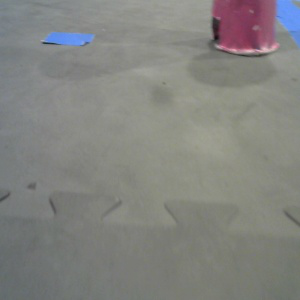right: (209, 1, 282, 58)
